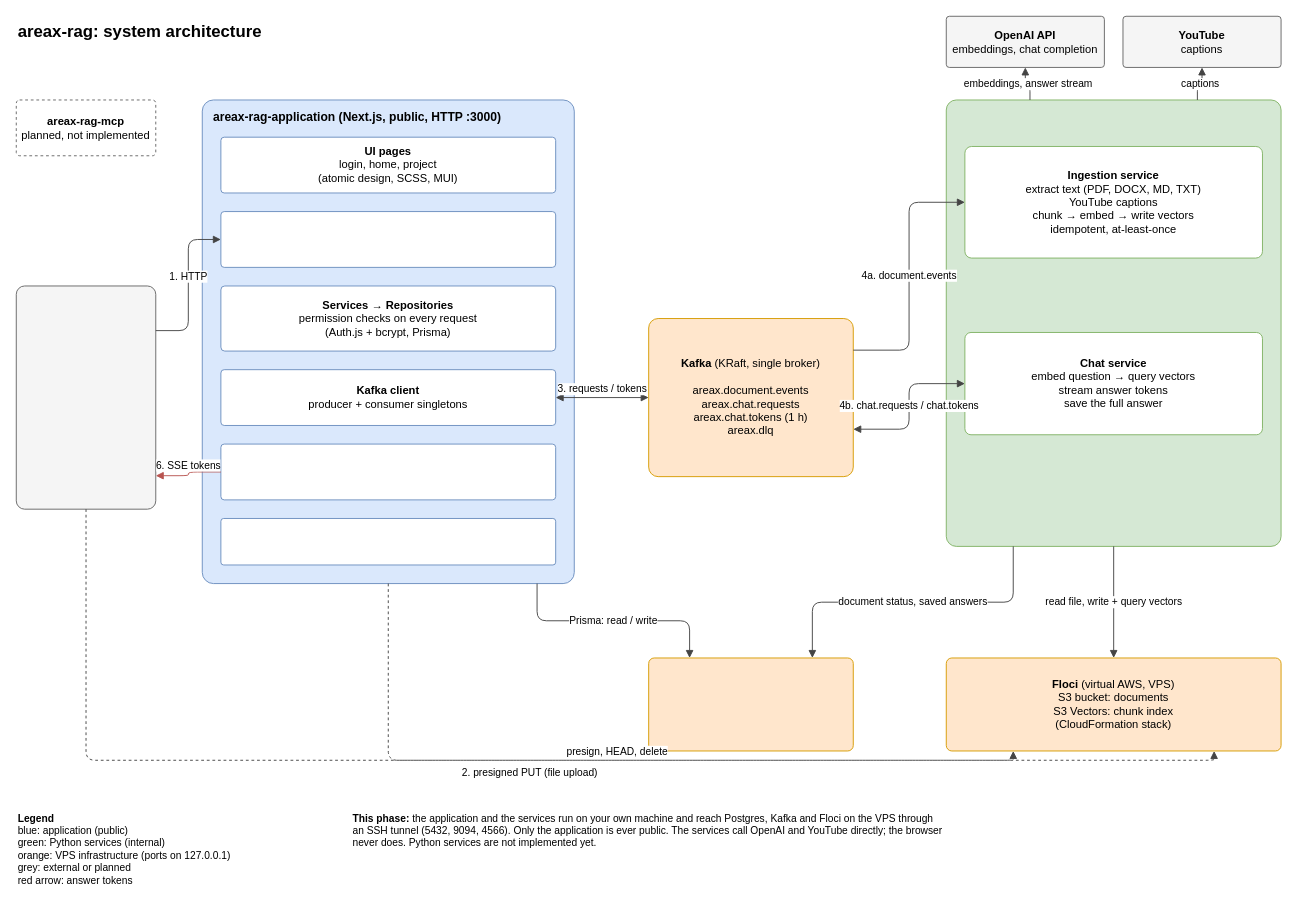
Some shapes in this 1297 by 916 pixel diagram are drawn without their labels. The shapes that lost their labels are listed below. From the top down, each one's box as (x1, y1, x2, y2) in pixels, then its label:
(220, 211, 556, 267): Route handlers /api/** zod validation, ApiResponse envelope
(945, 99, 1281, 546): areax-rag-service (Python, one image, two entry points)
(15, 285, 156, 509): Browser React UI one EventSource per tab
(220, 443, 556, 500): SSE hub GET /api/events userId → open connections
(220, 518, 556, 565): S3 client presigned URLs, HEAD, delete
(648, 657, 853, 751): Postgres 16 (VPS) schema owned by the application (Prisma migrations)
